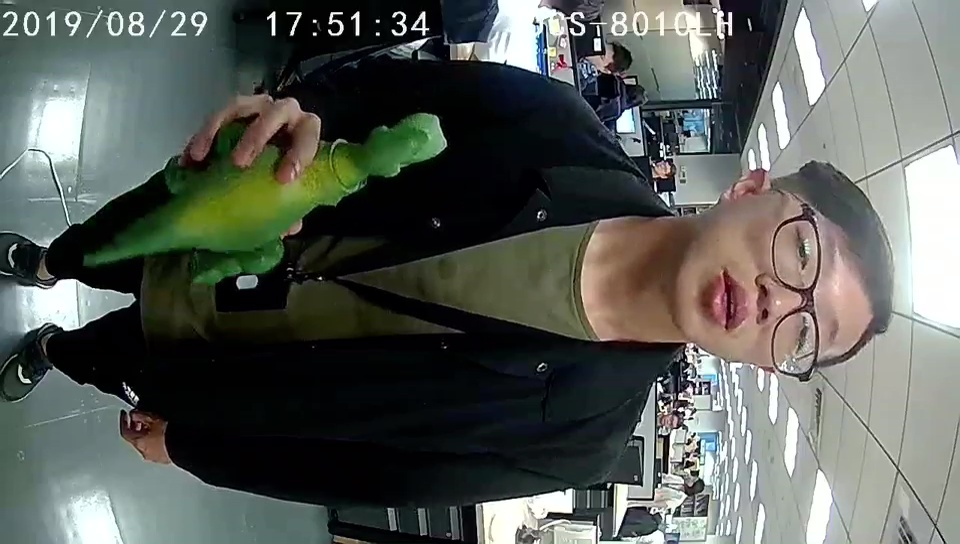rex: (139, 108, 449, 288)
